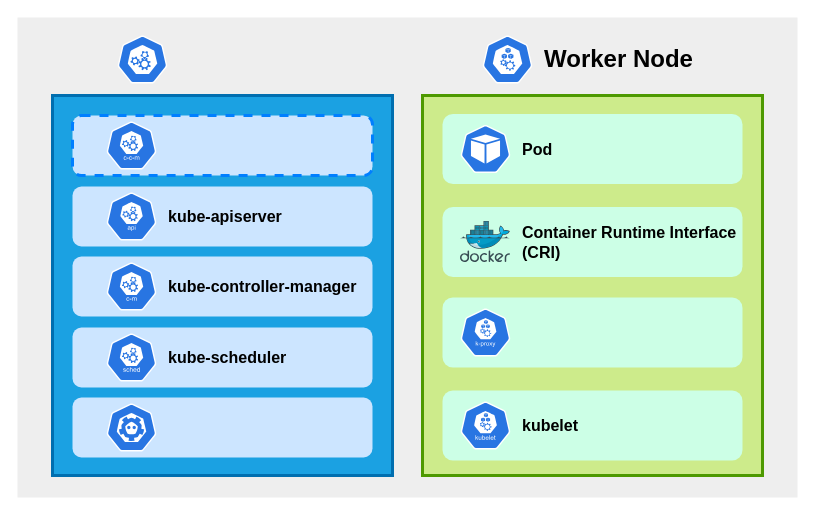
Some shapes in this 814 by 514 pixel diagram are drawn without their labels. Each missing label, with the box of its shape:
cloud-control-manager: (98, 114, 164, 176)
etcd: (106, 402, 156, 452)
kube-proxy: (460, 308, 510, 356)
Master Node / Control Plane: (116, 34, 168, 84)
